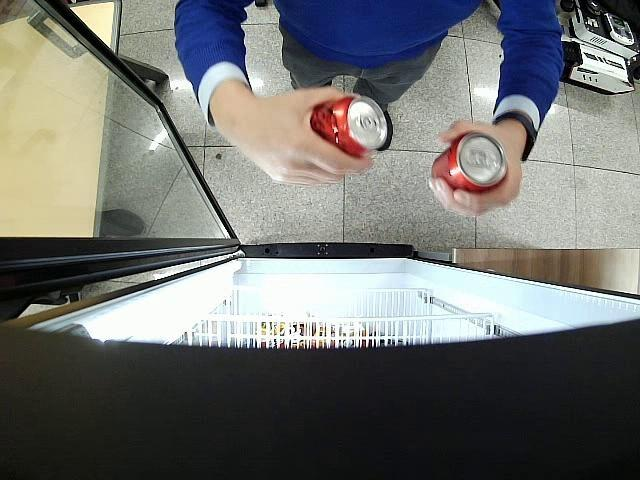11_cocaColaZero: (310, 96, 388, 157), (432, 132, 508, 193)
